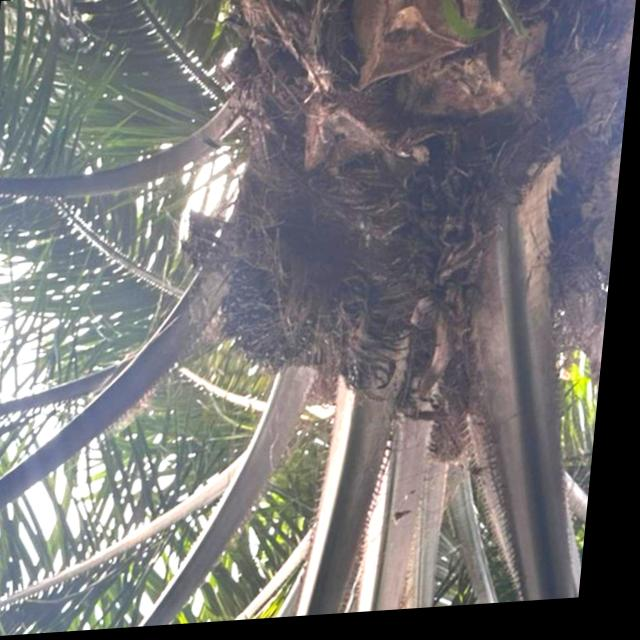unripe: (202, 223, 375, 398)
